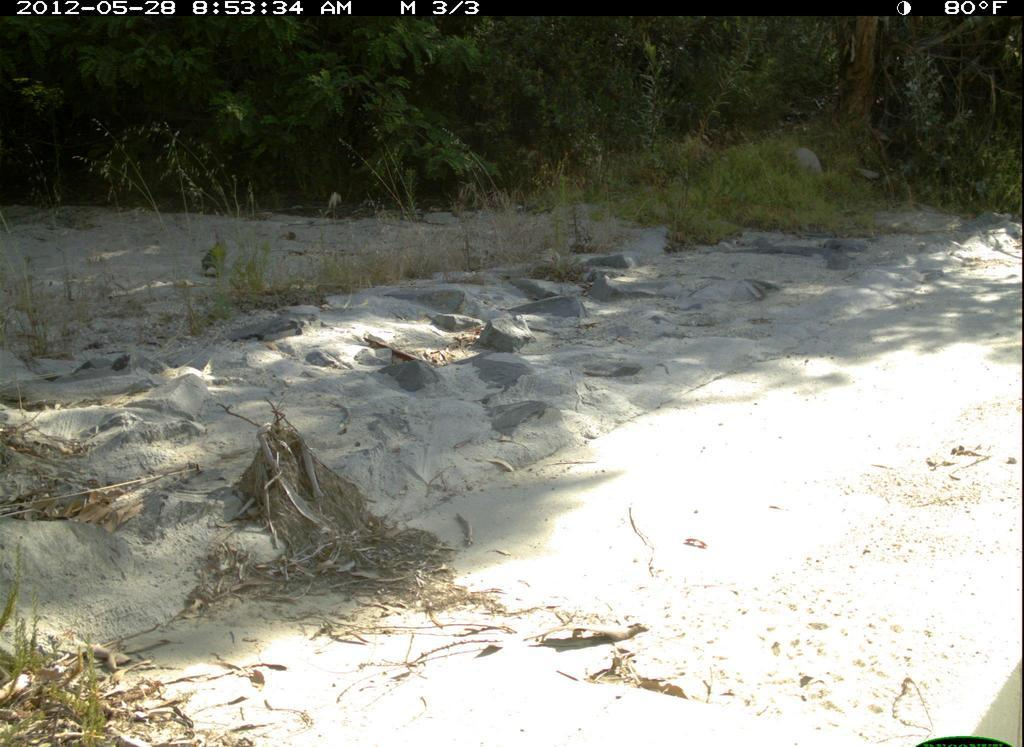rabbit: (194, 228, 245, 283)
